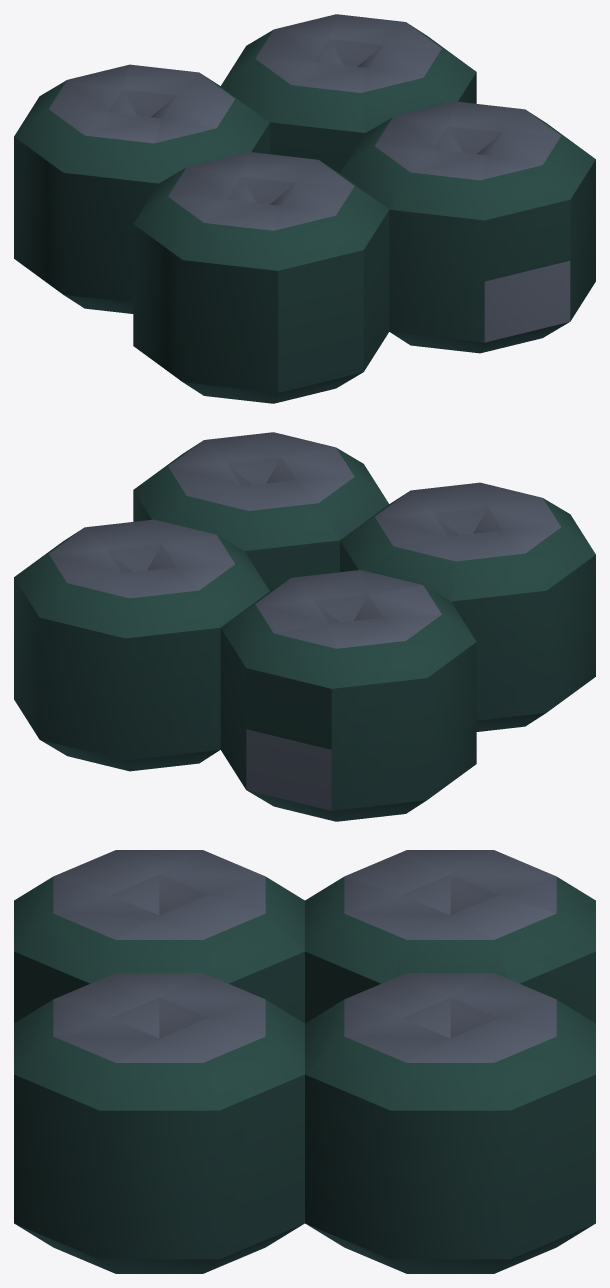
The model's file is containers_A.glb.
3 renders of one model, top to bottom at view 1: azimuth 30°, elevation 25°; view 2: azimuth 150°, elevation 25°; view 3: azimuth 270°, elevation 25°, orthographic. The views are drawn at different scales.
Parts seen in each view (by area): view 1: containers_A; view 2: containers_A; view 3: containers_A.
Boxes of the visible parts, x1,y1,x2,y2 form: containers_A: (14, 14, 595, 403); containers_A: (14, 432, 595, 821); containers_A: (14, 850, 595, 1273).
Size of the model in its own units: 0.5 by 0.2 by 0.5.
1 material, 1 textured.
